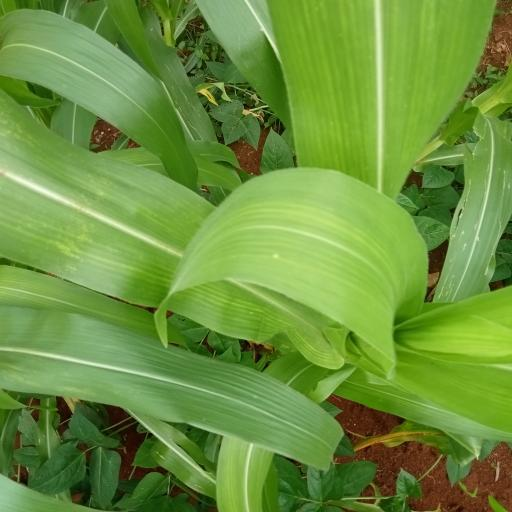Corn_Brown_Spots: (54, 142, 430, 373)
